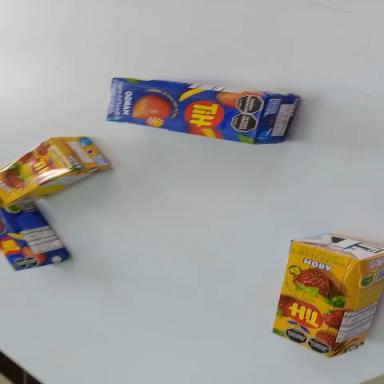HIT-MANGO: (107, 75, 301, 148), (0, 194, 71, 275)
HIT-MORA: (266, 224, 384, 366), (0, 120, 112, 215)
cara_F: (263, 239, 360, 359), (106, 78, 267, 145), (0, 135, 76, 206), (0, 208, 40, 280)
